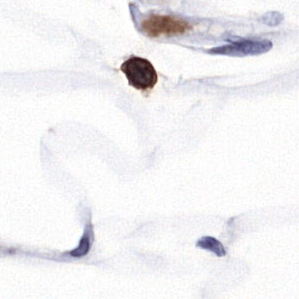Lymphocyte: (119, 56, 161, 91)
